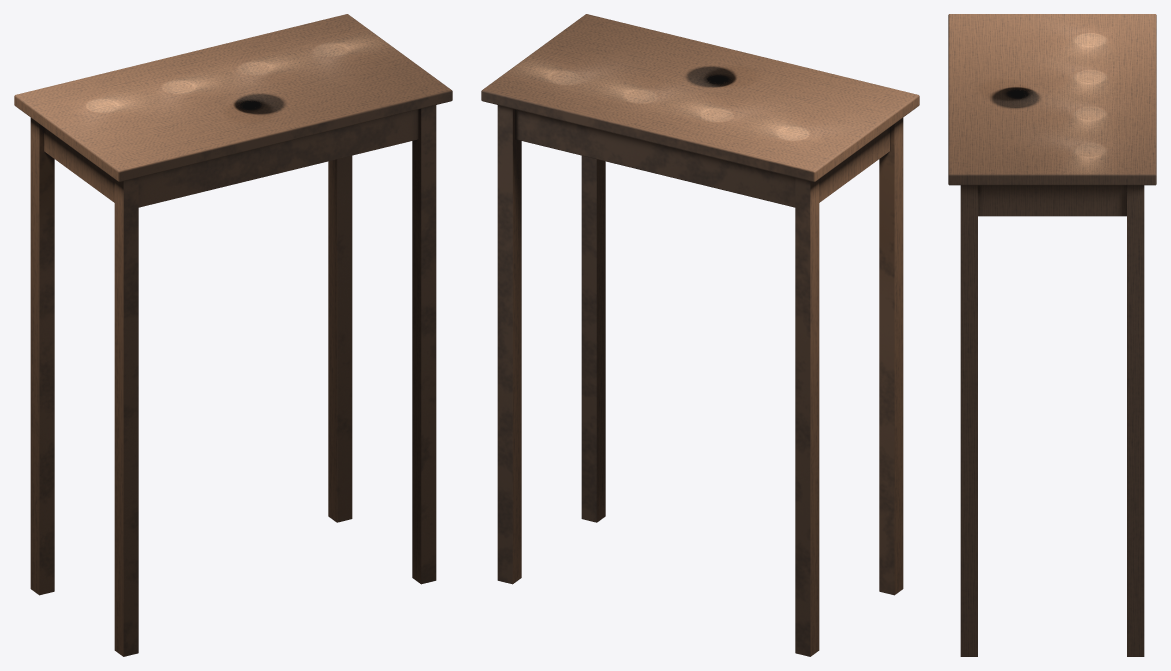
Rendered from 809_comp.glb.
3 renders of one model, left to right at view 1: azimuth 30°, elevation 25°; view 2: azimuth 150°, elevation 25°; view 3: azimuth 270°, elevation 25°, orthographic.
Visible parts, largest first — view 1: Table; view 2: Table; view 3: Table.
Part boxes in pixels (x1,y1,x2,y2): Table: (14,14,452,656); Table: (481,14,919,656); Table: (948,14,1156,656).
Size of what is drawn, in the model's own units: 2.2 by 3.1 by 1.2.
Materials: 1 (1 with a texture image).
